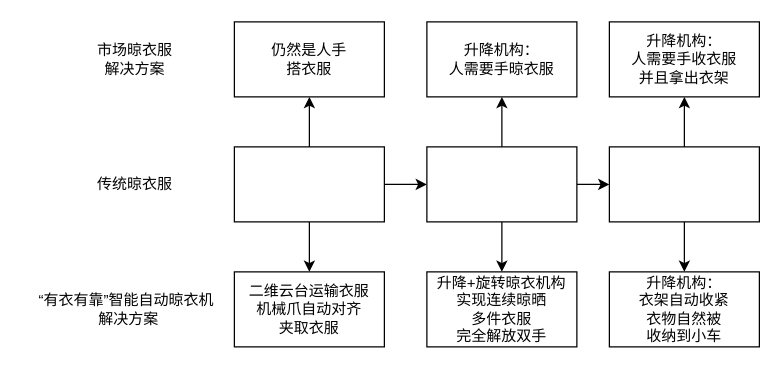
Some shapes in this 781 by 369 pixel diagram are drawn without their labels. The centre of each missing label's shape, as x and y in pixels:
使用晾衣杆 晾衣服: [501,184]
使用衣架 搭衣服: [308,184]
使用衣架 收衣服: [683,184]
